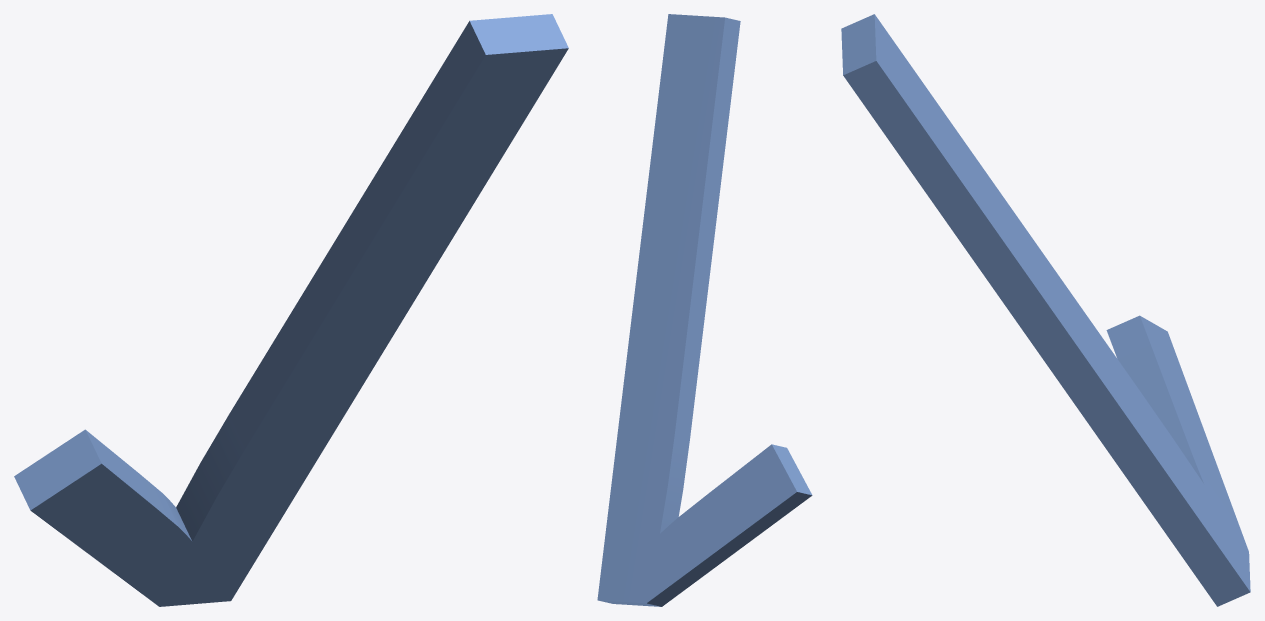
Rendered from New_Number_1.gltf.
3 renders of one model, left to right at view 1: azimuth 30°, elevation 25°; view 2: azimuth 150°, elevation 25°; view 3: azimuth 270°, elevation 25°, orthographic. The views are drawn at different scales.
Parts seen in each view (by area): view 1: Part 568; view 2: Part 568; view 3: Part 568.
Part boxes in pixels (box(x1,y1,x2,y2)): Part 568: box(14, 14, 568, 606); Part 568: box(597, 14, 812, 606); Part 568: box(841, 14, 1250, 606).
Size of the model in its own units: 0.00242 by 0.00451 by 0.00275.
